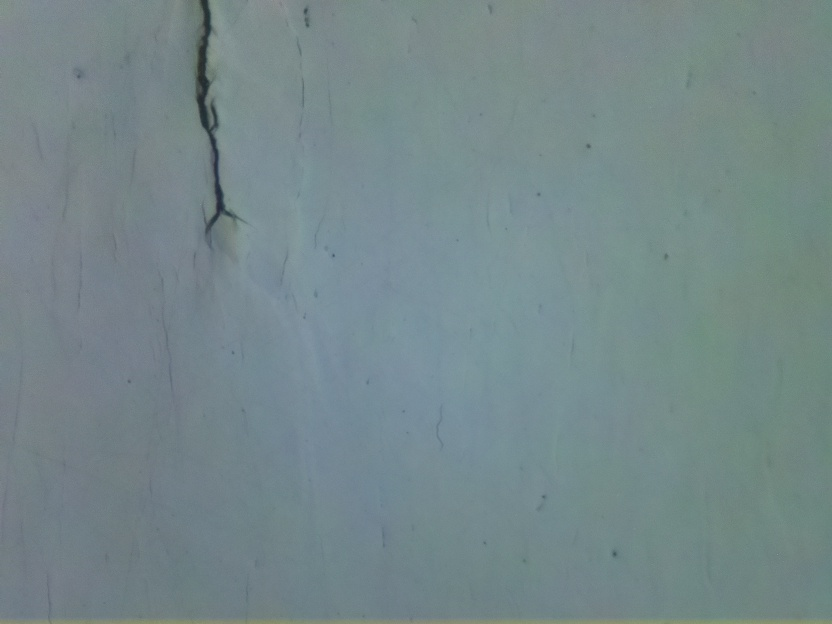crack: (191, 0, 250, 235)
